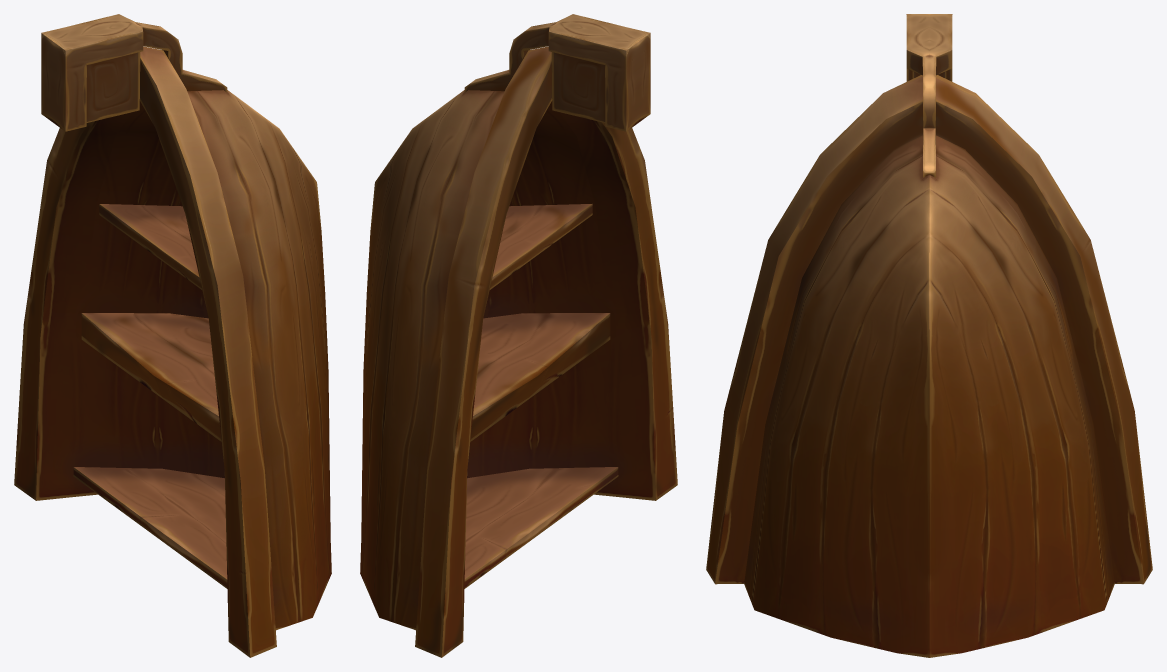
Rendered from SM_Boat_Shelf.fbx.
The picture shows the model from 3 angles, left to right: view 1: azimuth 30°, elevation 25°; view 2: azimuth 150°, elevation 25°; view 3: azimuth 270°, elevation 25°; orthographic projection. The views are drawn at different scales.
Visible parts, largest first — view 1: SM_Boat_Shelf_LOD0; view 2: SM_Boat_Shelf_LOD0; view 3: SM_Boat_Shelf_LOD0.
Part boxes in pixels (x1,y1,x2,y2): SM_Boat_Shelf_LOD0: [14, 14, 331, 657]; SM_Boat_Shelf_LOD0: [360, 14, 677, 657]; SM_Boat_Shelf_LOD0: [706, 14, 1152, 657].
Bounding box in the file's own units: 101 × 152 × 195.
1 material, 1 textured.
